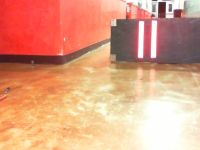switch: (150, 20, 157, 59), (137, 21, 144, 58)
